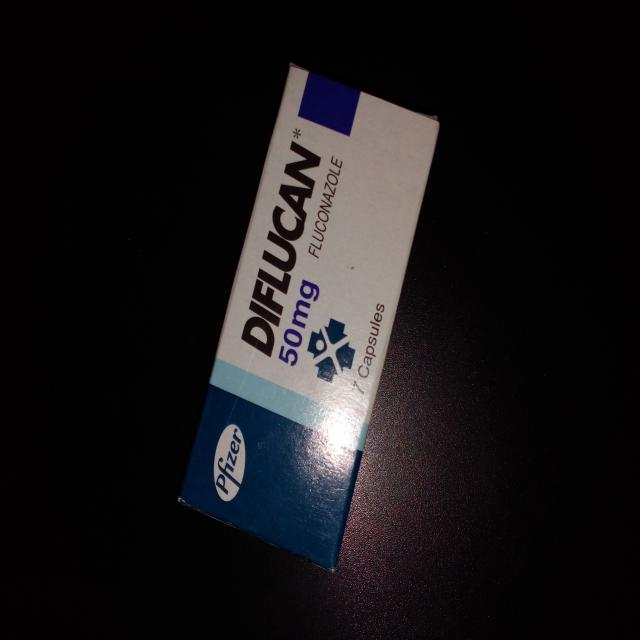Medicine: (180, 60, 440, 571)
